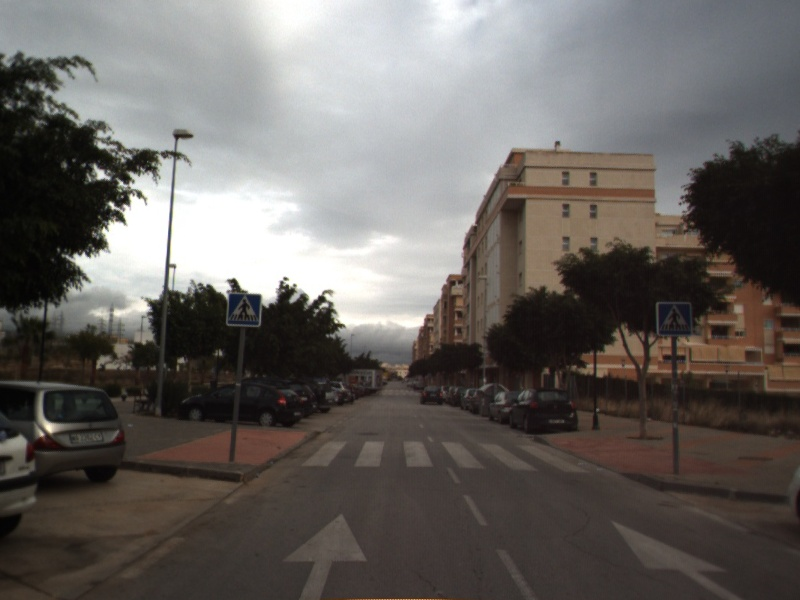STRAIGHT: (608, 518, 746, 600), (280, 511, 371, 600)
